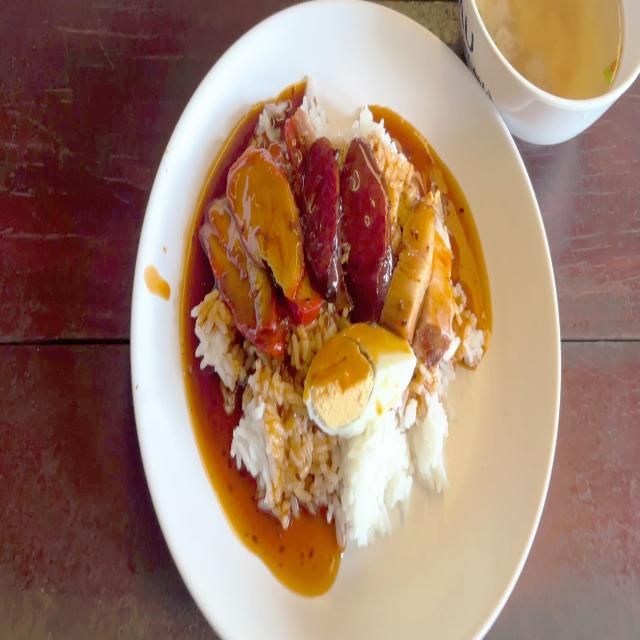boiled_egg: (302, 320, 412, 432)
chainese_sausage: (304, 138, 398, 292), (344, 138, 386, 297), (302, 133, 339, 297)
crispy_pork: (399, 178, 455, 348)
red_pork: (210, 150, 309, 346), (201, 203, 285, 351), (228, 148, 305, 302)
red_pork_and_crispy_pork: (196, 82, 485, 542)
rice: (316, 428, 434, 534), (232, 368, 306, 510), (417, 361, 459, 476), (198, 294, 235, 383)
